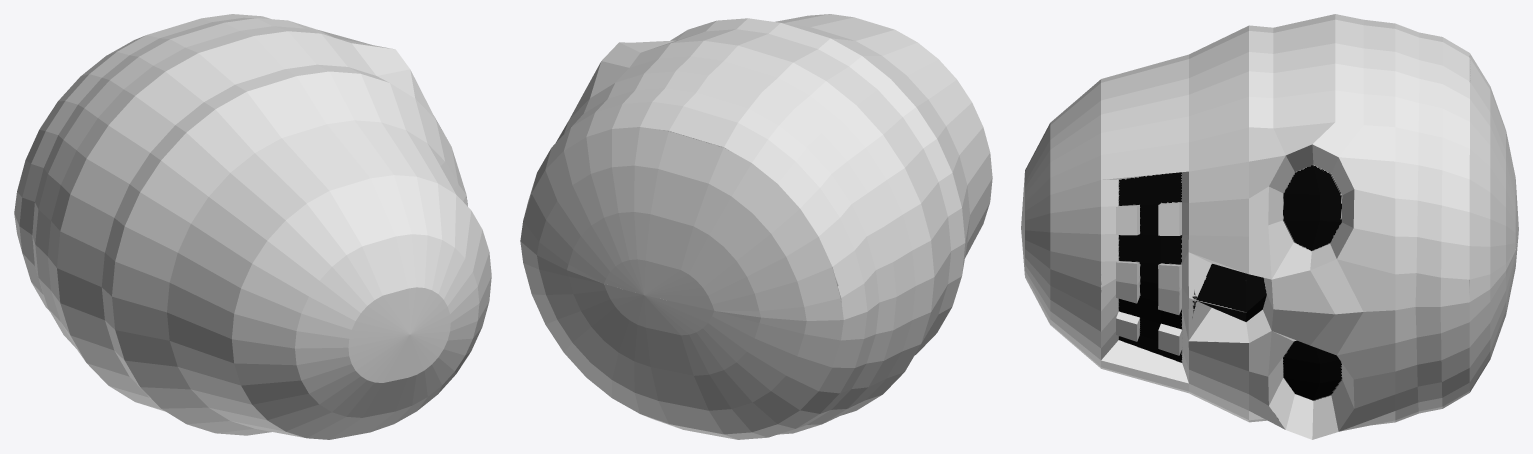
Rendered from Skull Single Material.fbx.
3 views of the same model, side by side, from view 1: azimuth 30°, elevation 25°; view 2: azimuth 150°, elevation 25°; view 3: azimuth 270°, elevation 25° (orthographic).
Visible parts, largest first — view 1: Skull; view 2: Skull; view 3: Skull.
Boxes of the visible parts, x1=… form: Skull: x1=14, y1=14, x2=491, y2=439; Skull: x1=520, y1=14, x2=992, y2=439; Skull: x1=1021, y1=14, x2=1518, y2=439.
Bounding box in the file's own units: 16587 × 15651 × 19100.
